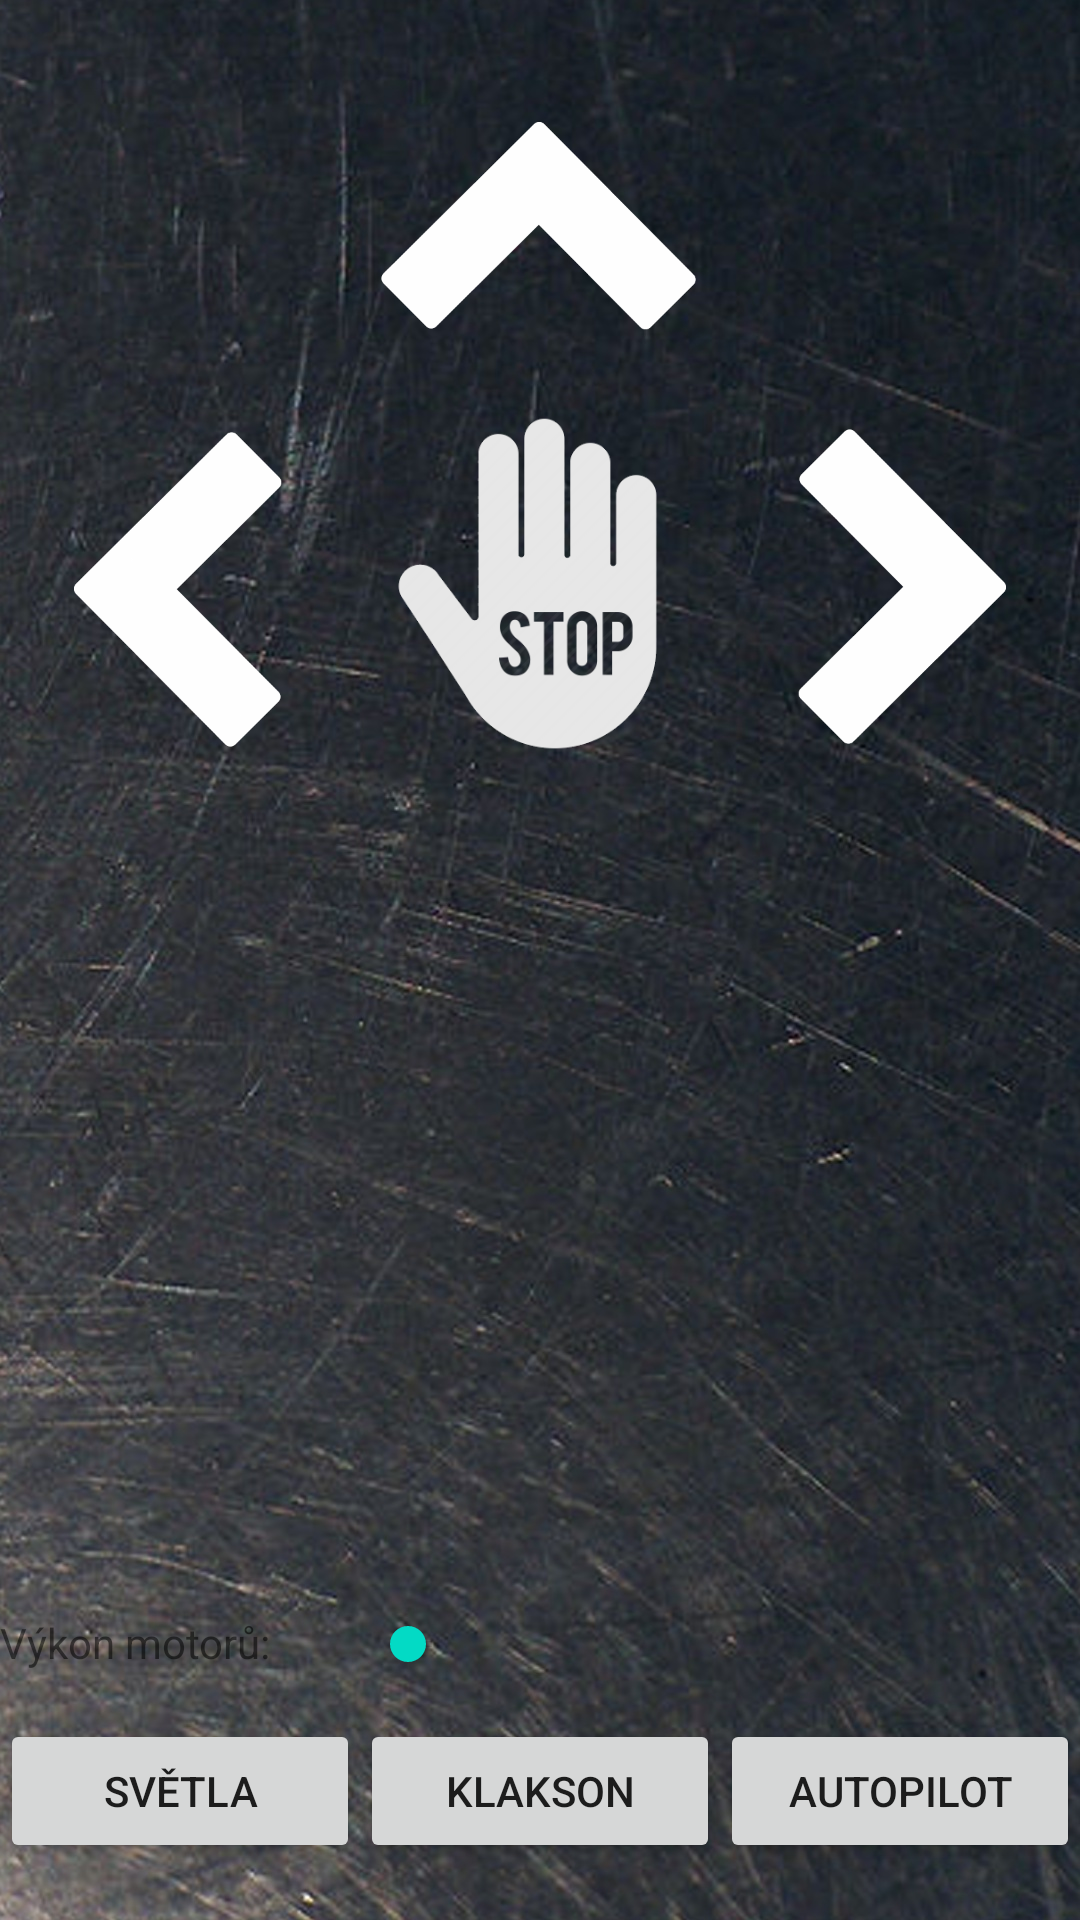

Icons on this 1080 x 1920 Android screen, each with the point to tap as (x=x, y=y):
left: (x=181, y=588)
right: (x=901, y=589)
